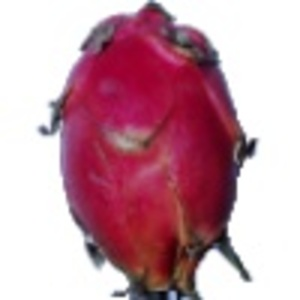pitaia: (36, 1, 259, 300)
